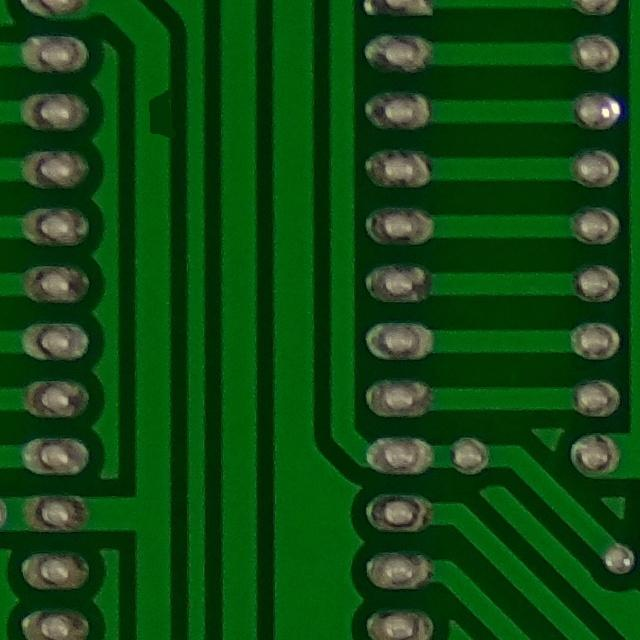mouse_bite: (137, 78, 183, 156)
